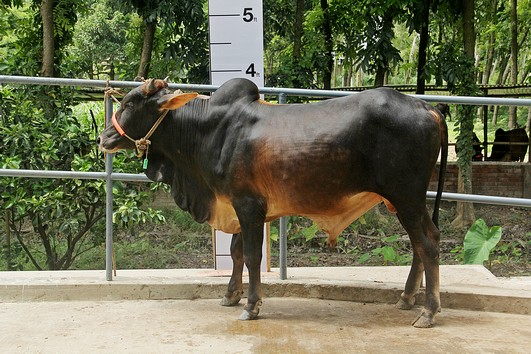cow: (94, 68, 461, 335)
